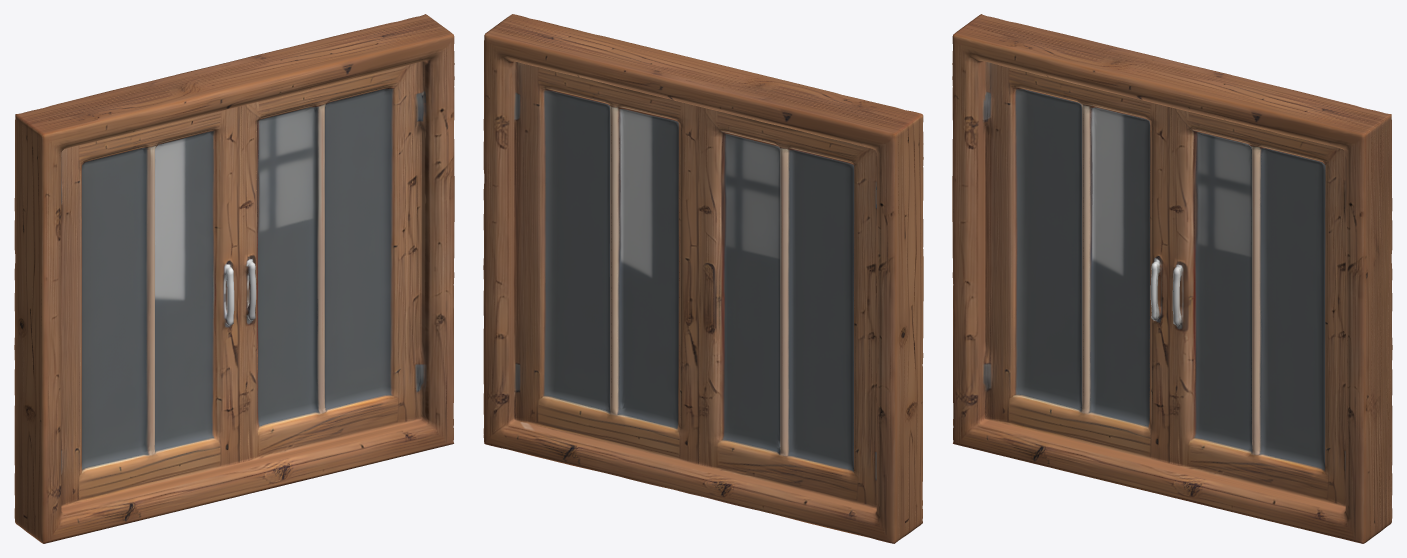
The picture shows the model from 3 angles, left to right: view 1: azimuth 30°, elevation 25°; view 2: azimuth 150°, elevation 25°; view 3: azimuth 330°, elevation 25°; orthographic projection.
Visible parts, largest first — view 1: model; view 2: model; view 3: model.
Part boxes in pixels (x1,y1,x2,y2): model: (14, 14, 454, 543); model: (483, 14, 923, 543); model: (952, 14, 1392, 543).
Bounding box in the file's own units: 1.91 × 1.81 × 0.2357.
1 material, 1 textured.
